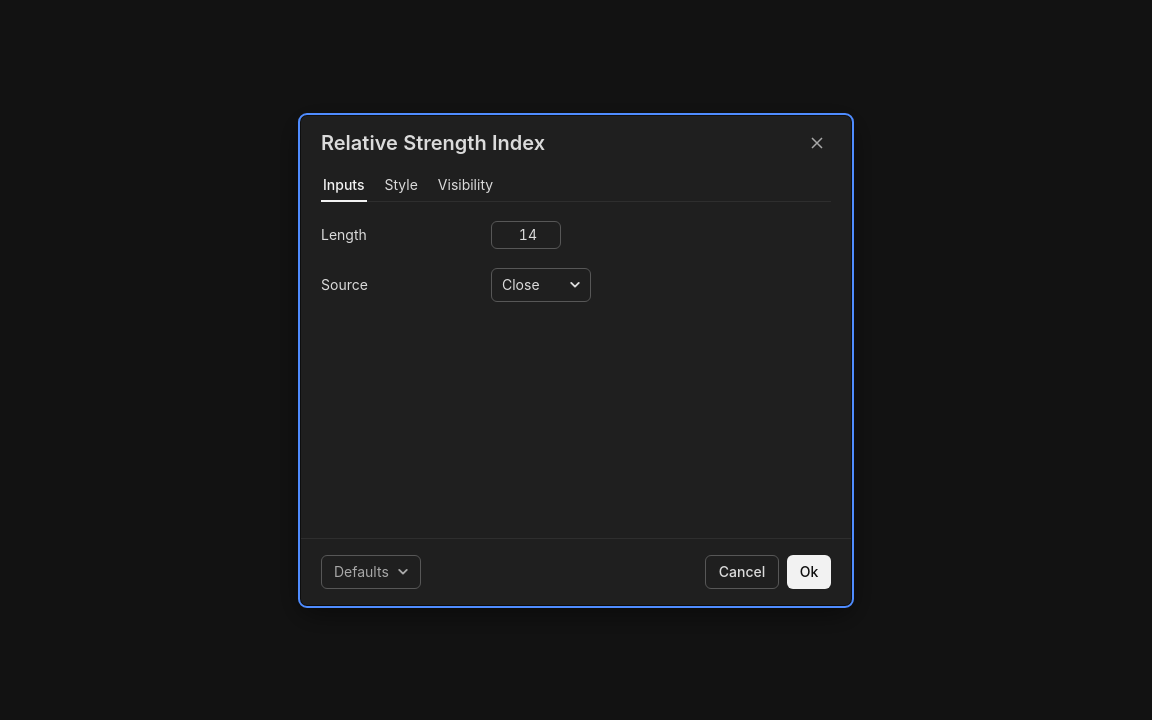
Test: R6b-29 — the footer's left control is `Defaults ▾`
Click the button with aria-label "Study defaults". click: (371, 572)
box: [321,554,421,588]
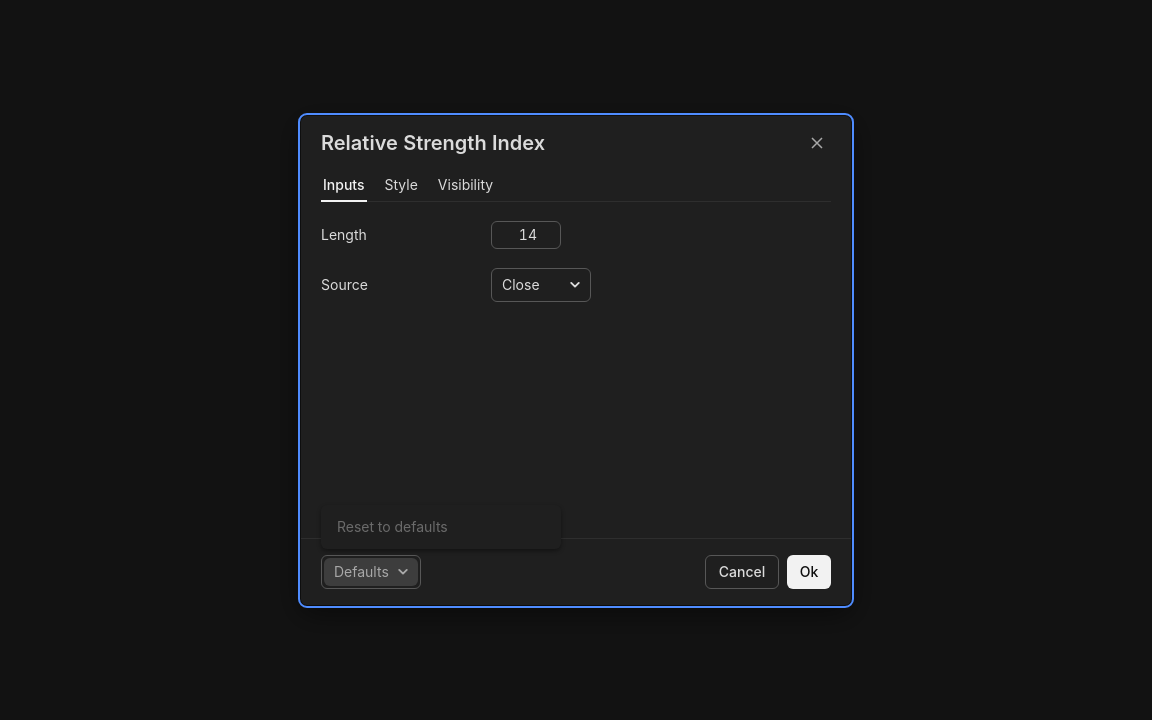
Check: the menu item "Reset to defaults" is shown, box [327,510,555,542]
